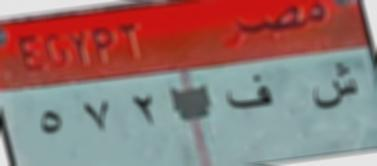2: (122, 88, 160, 134)
5: (31, 107, 71, 139)
7: (77, 90, 113, 140)
faa: (225, 68, 277, 114)
sheen: (310, 60, 361, 116)
